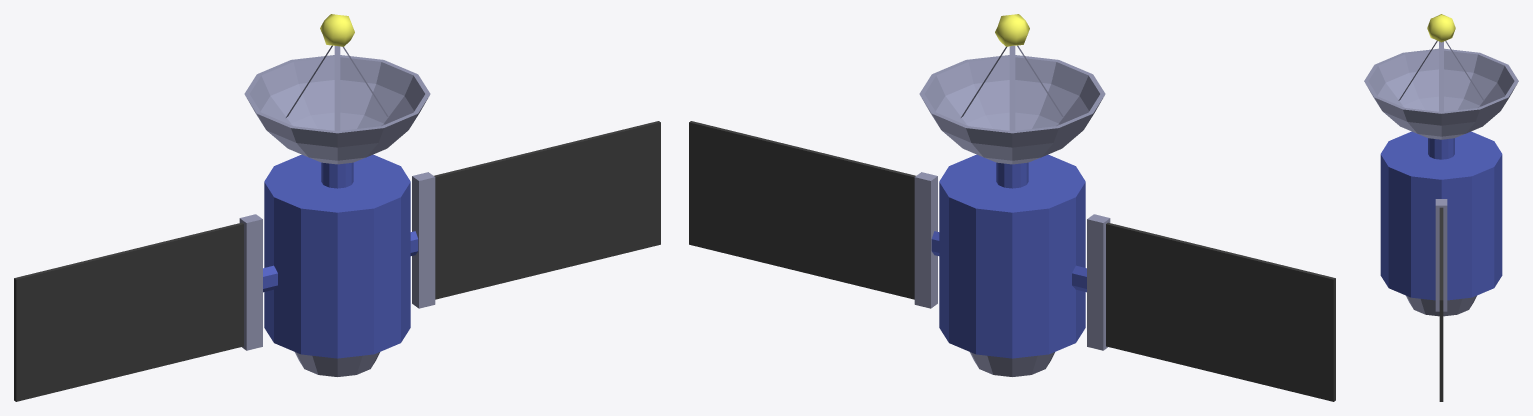
Rendered from MD_eisei_251208.fbx.
3 views of the same model, side by side, from view 1: azimuth 30°, elevation 25°; view 2: azimuth 150°, elevation 25°; view 3: azimuth 270°, elevation 25° (orthographic). The views are drawn at different scales.
Visible parts, largest first — view 1: eisei_ketugou; view 2: eisei_ketugou; view 3: eisei_ketugou.
Part boxes in pixels (left/top/right/bottom): eisei_ketugou: left=14, top=14, right=660, bottom=401; eisei_ketugou: left=689, top=14, right=1335, bottom=401; eisei_ketugou: left=1364, top=14, right=1518, bottom=401.
Bounding box in the file's own units: 831 × 426 × 208.
